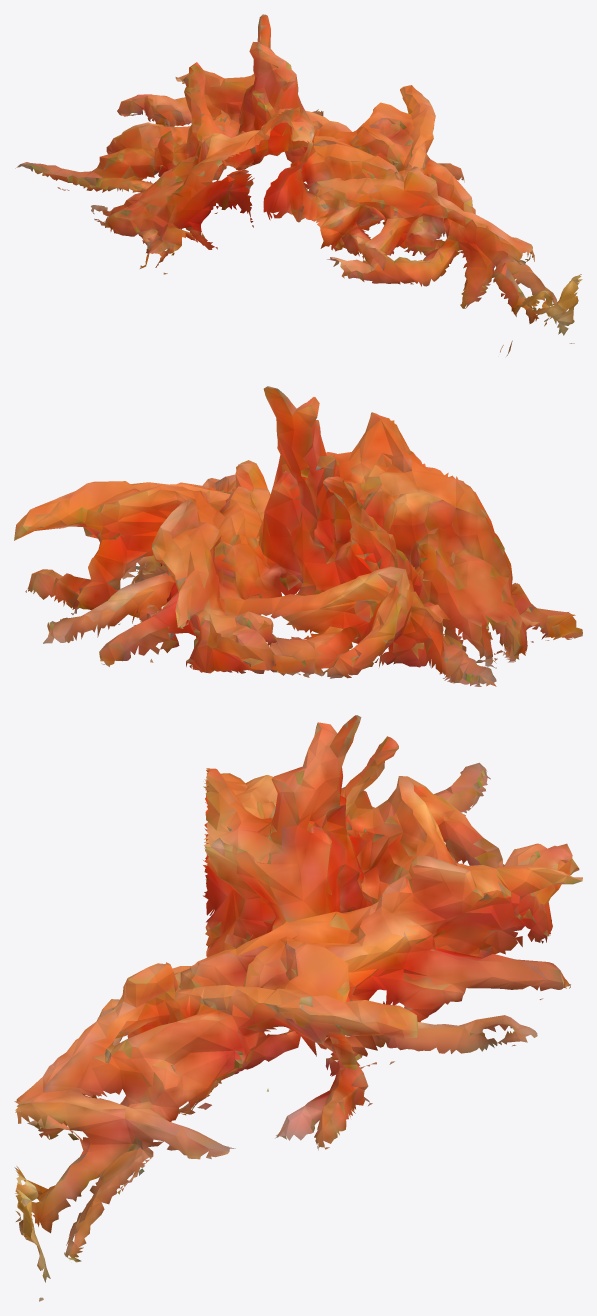
Rendered from carrot.glb.
3 views of the same model, one above another, from view 1: azimuth 30°, elevation 25°; view 2: azimuth 150°, elevation 25°; view 3: azimuth 270°, elevation 25° (orthographic). The views are drawn at different scales.
Parts seen in each view (by area): view 1: model_tex_u1_v1_0; view 2: model_tex_u1_v1_0; view 3: model_tex_u1_v1_0.
Boxes of the visible parts, x1=… form: model_tex_u1_v1_0: x1=15, y1=14, x2=582, y2=356; model_tex_u1_v1_0: x1=14, y1=386, x2=582, y2=686; model_tex_u1_v1_0: x1=14, y1=715, x2=582, y2=1301.
Bounding box in the file's own units: 0.07 × 0.0485 × 0.057.
1 material, 1 textured.
